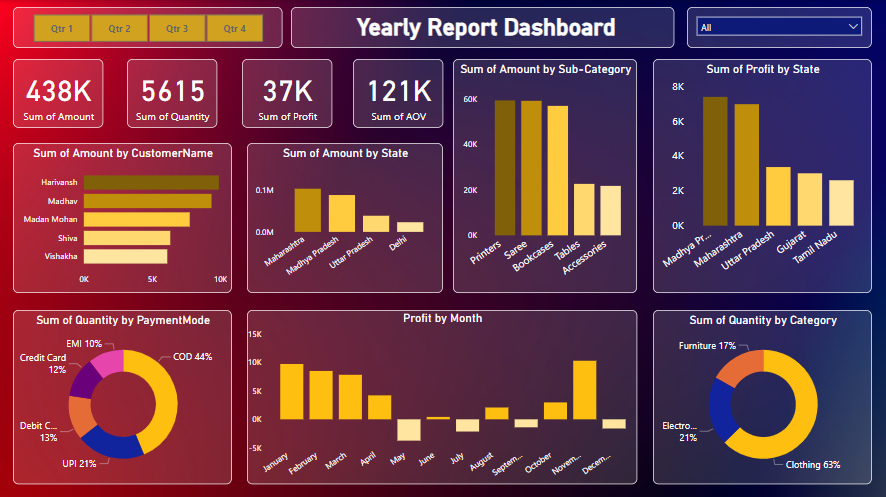

What the dashboard file says about the page in this screenshot:
{"tool":"powerbi","page":{"name":"Page 1","canvas":[1280,720],"ordinal":0},"visuals":[{"type":"textbox","box":[420.5,10.1,551.5,59],"z":0},{"type":"columnChart","title":"Profit by Month","fields":{"Category":["Orders.Order Date.Variation.Date Hierarchy.Month"],"Y":["Details.Profit"]},"box":[357.1,446.4,561.6,250.6],"z":1000},{"type":"lineClusteredColumnComboChart","fields":{"Category":["Details.Sub-Category"],"Y":["Details.Amount"]},"box":[653.8,85,265,337],"z":2000},{"type":"donutChart","fields":{"Category":["Details.Category"],"Y":["Details.Quantity"]},"box":[941.8,446.4,315.4,250.6],"z":3000},{"type":"donutChart","fields":{"Y":["Details.Quantity"],"Category":["Details.PaymentMode"]},"box":[20.2,446.4,315.4,250.6],"z":4000},{"type":"card","fields":{"Values":["Details.Amount"]},"box":[20.2,85,129.6,99.4],"z":5000},{"type":"card","fields":{"Values":["Details.Quantity"]},"box":[184,85,129.6,99.4],"z":6000},{"type":"card","fields":{"Values":["Details.Profit"]},"box":[350,85,129.6,99.4],"z":7000},{"type":"card","fields":{"Values":["Details.AOV"]},"box":[509.8,85,129.6,99.4],"z":8000},{"type":"lineClusteredColumnComboChart","fields":{"Category":["Orders.State"],"Y":["Details.Amount"]},"box":[357.1,205.9,282.2,216],"z":9000},{"type":"barChart","fields":{"Category":["Orders.CustomerName"],"Y":["Details.Amount"]},"box":[20.2,205.9,315.4,216],"z":10000},{"type":"slicer","fields":{"Values":["Orders.Order Date.Variation.Date Hierarchy.Quarter"]},"box":[20.1,10.1,387.5,58.7],"z":11000},{"type":"slicer","fields":{"Values":["Details.Category"]},"box":[990.7,10.1,266.4,59],"z":12000},{"type":"columnChart","title":"Sum of Profit by State","fields":{"Category":["Orders.State"],"Y":["Details.Profit"]},"box":[941.8,85,315.4,337],"z":13000}]}

Visuals, with their boxes in screenshot pixels (x1, y1, x2, y2), scaled from the page's 1280x720 canvas onto the 886x497 screenshot:
textbox: {"left": 291, "top": 7, "right": 673, "bottom": 48}
"Profit by Month" columnChart: {"left": 247, "top": 308, "right": 636, "bottom": 481}
lineClusteredColumnComboChart - Details.Sub-Category x Details.Amount: {"left": 453, "top": 59, "right": 636, "bottom": 291}
donutChart - Details.Category x Details.Quantity: {"left": 652, "top": 308, "right": 870, "bottom": 481}
donutChart - Details.Quantity x Details.PaymentMode: {"left": 14, "top": 308, "right": 232, "bottom": 481}
card - Details.Amount: {"left": 14, "top": 59, "right": 104, "bottom": 127}
card - Details.Quantity: {"left": 127, "top": 59, "right": 217, "bottom": 127}
card - Details.Profit: {"left": 242, "top": 59, "right": 332, "bottom": 127}
card - Details.AOV: {"left": 353, "top": 59, "right": 443, "bottom": 127}
lineClusteredColumnComboChart - Orders.State x Details.Amount: {"left": 247, "top": 142, "right": 443, "bottom": 291}
barChart - Orders.CustomerName x Details.Amount: {"left": 14, "top": 142, "right": 232, "bottom": 291}
slicer - Orders.Order Date.Variation.Date Hierarchy.Quarter: {"left": 14, "top": 7, "right": 282, "bottom": 47}
slicer - Details.Category: {"left": 686, "top": 7, "right": 870, "bottom": 48}
"Sum of Profit by State" columnChart: {"left": 652, "top": 59, "right": 870, "bottom": 291}
